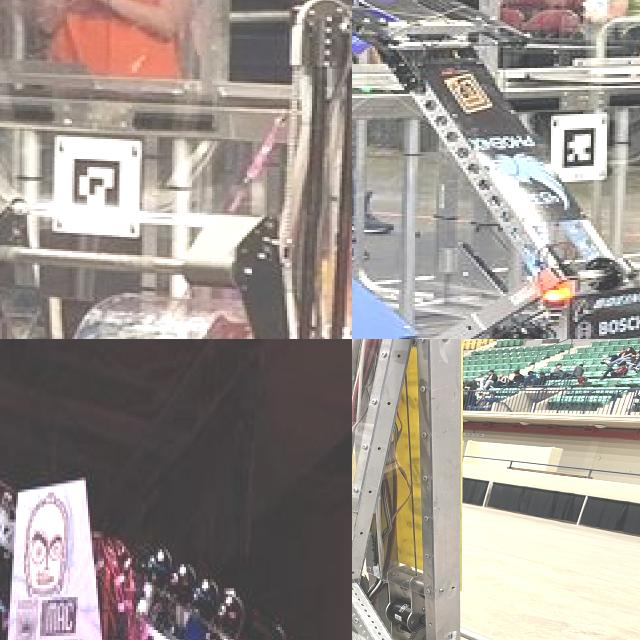FRC-Robots: (0, 0, 352, 339), (0, 341, 352, 640), (352, 0, 640, 339), (352, 339, 461, 640)
